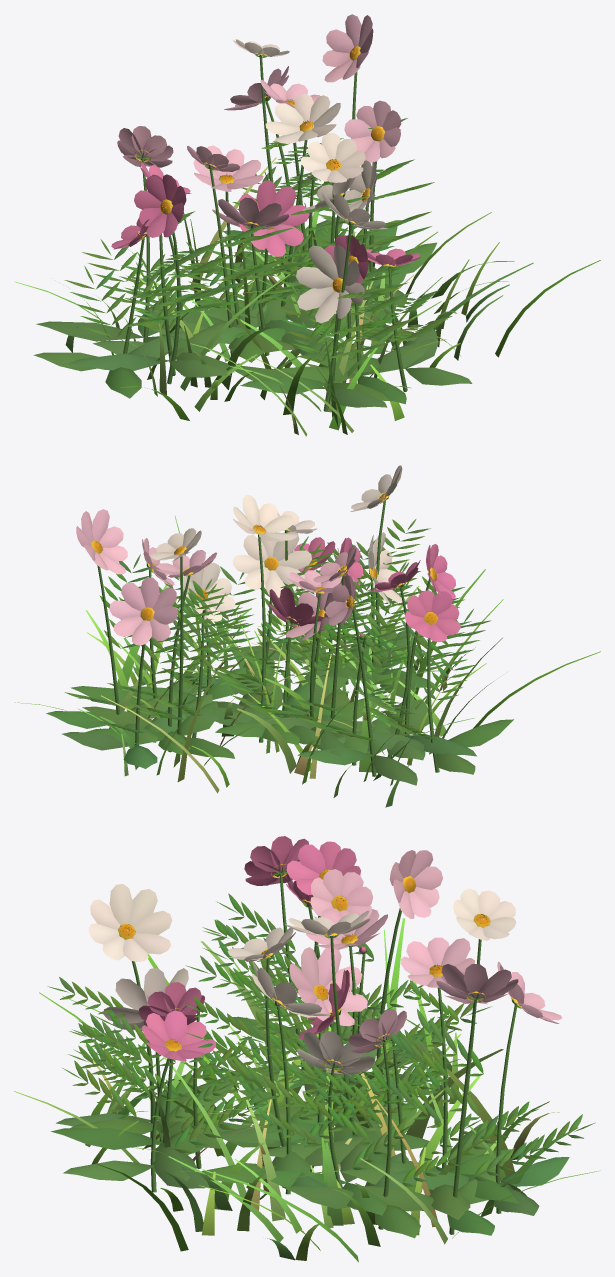
The model's file is cosmos.glb.
3 views of the same model, one above another, from view 1: azimuth 30°, elevation 25°; view 2: azimuth 150°, elevation 25°; view 3: azimuth 270°, elevation 25° (orthographic). The views are drawn at different scales.
Visible parts, largest first — view 1: leaf, petal, grass, stem, center; view 2: leaf, petal, grass, stem, center; view 3: leaf, petal, grass, stem, center.
Part boxes in pixels (bbox=[...]): leaf: bbox=[33, 118, 472, 407]; petal: bbox=[111, 14, 420, 322]; grass: bbox=[14, 157, 600, 436]; stem: bbox=[123, 56, 407, 411]; center: bbox=[134, 46, 397, 292]; leaf: bbox=[46, 519, 513, 785]; petal: bbox=[76, 465, 460, 645]; grass: bbox=[14, 516, 600, 807]; stem: bbox=[97, 500, 439, 776]; center: bbox=[91, 493, 437, 626]; leaf: bbox=[47, 893, 595, 1238]; petal: bbox=[88, 836, 562, 1075]; grass: bbox=[14, 918, 600, 1262]; stem: bbox=[131, 872, 517, 1234]; center: bbox=[118, 863, 525, 1071].
Bounding box in the file's own units: 1.26 × 0.6547 × 1.18.
